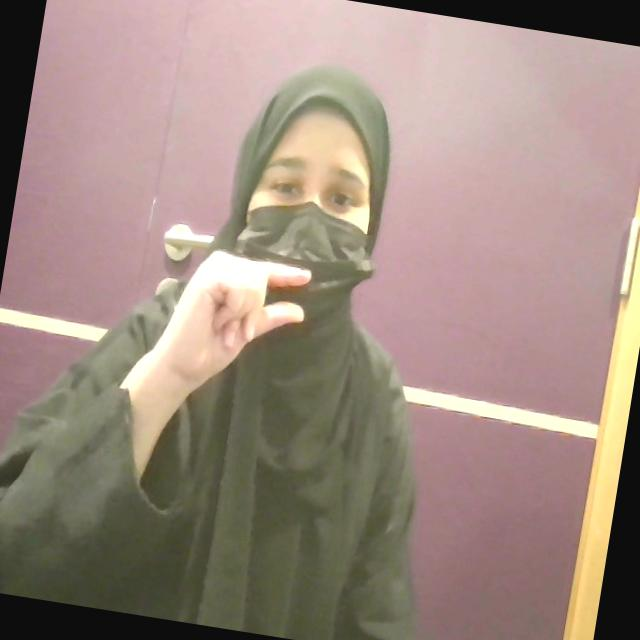fasting: (146, 238, 314, 404)
